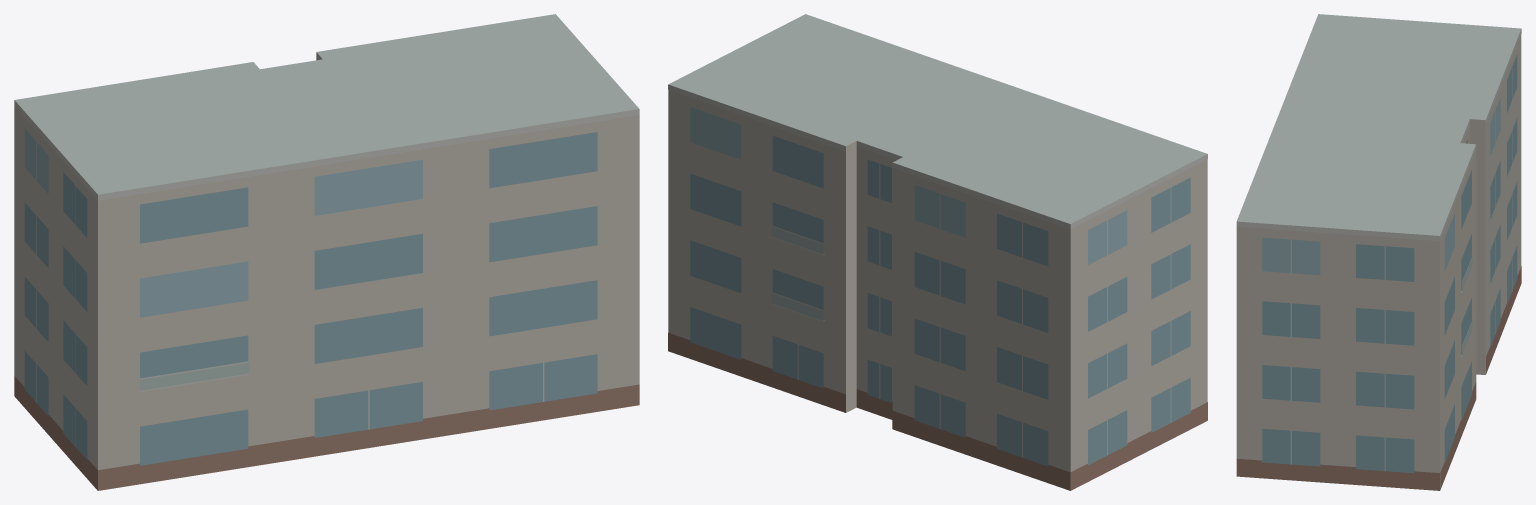
The model's file is survey-upis-32989660.glb.
3 views of the same model, side by side, from view 1: azimuth 30°, elevation 25°; view 2: azimuth 150°, elevation 25°; view 3: azimuth 270°, elevation 25° (orthographic). The views are drawn at different scales.
Visible parts, largest first — view 1: survey-upis-32989660.tmp; view 2: survey-upis-32989660.tmp; view 3: survey-upis-32989660.tmp.
Boxes of the visible parts, x1,y1,x2,y2 form: survey-upis-32989660.tmp: [14, 14, 639, 490]; survey-upis-32989660.tmp: [668, 14, 1207, 490]; survey-upis-32989660.tmp: [1236, 14, 1521, 490].
Bounding box in the file's own units: 22.79 × 12.2 × 12.37.
